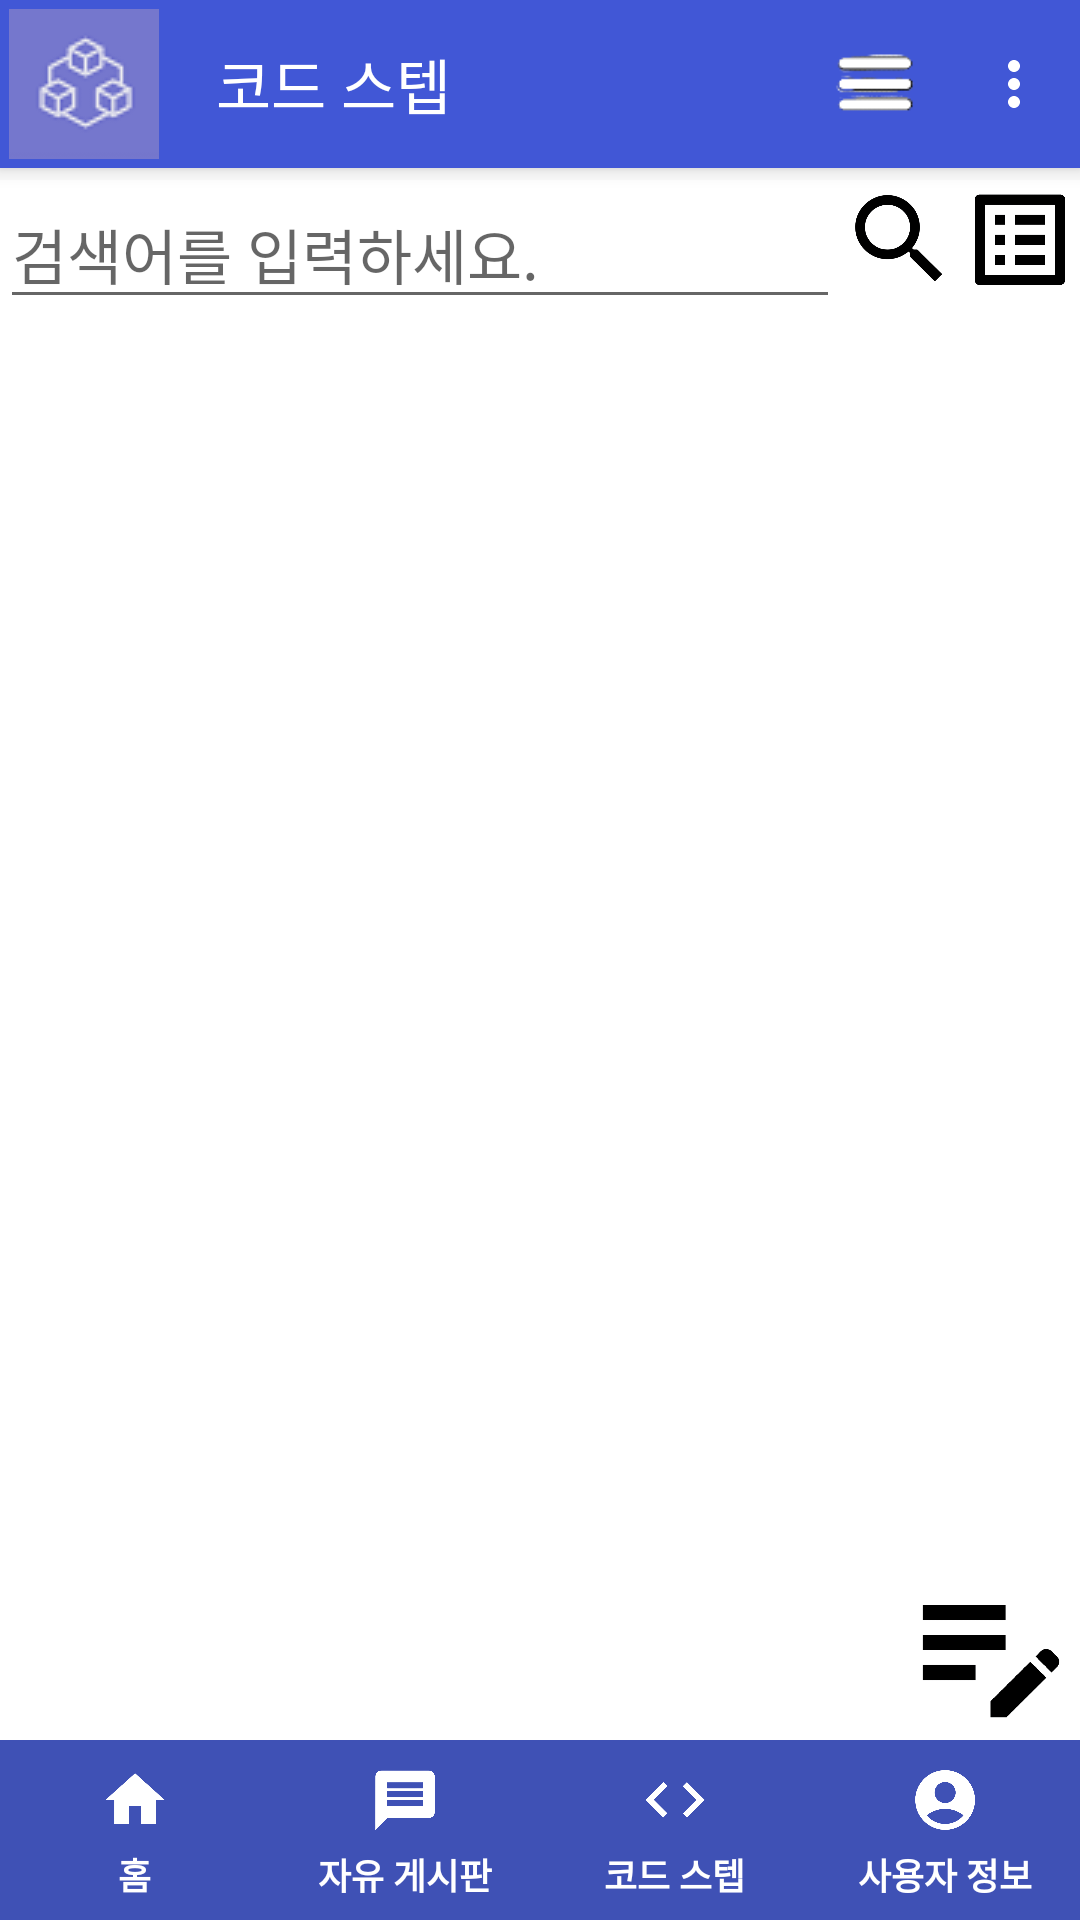

Locate icon controls on the screen. Image size 1080 x 1920, boxes as (x1, y1, x2, y2).
edit: (922, 1605, 1059, 1718)
list: (975, 194, 1065, 285)
search: (855, 195, 942, 281)
